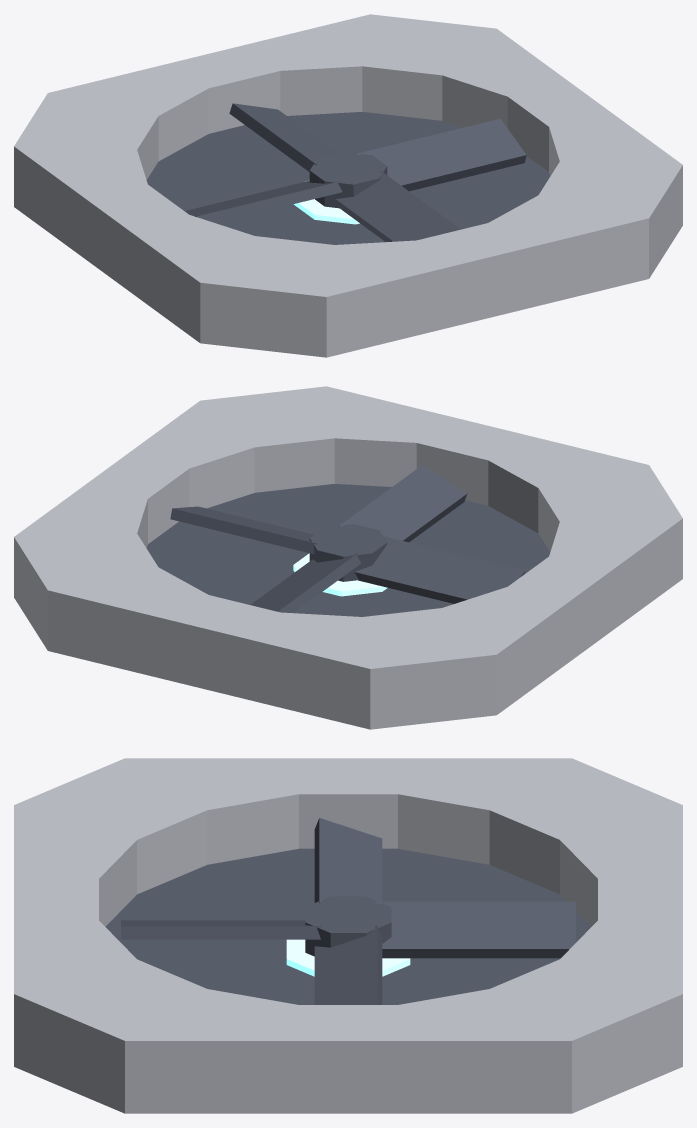
The model's file is sci-vent.glb.
3 renders of one model, top to bottom at view 1: azimuth 30°, elevation 25°; view 2: azimuth 150°, elevation 25°; view 3: azimuth 270°, elevation 25°, orthographic. The views are drawn at different scales.
Parts seen in each view (by area): view 1: Vent frame, Vent shaft, Vent fan, Vent glow; view 2: Vent frame, Vent shaft, Vent fan, Vent glow; view 3: Vent frame, Vent shaft, Vent fan, Vent glow.
Boxes of the visible parts, x1,y1,x2,y2 form: Vent frame: (14, 14, 682, 357); Vent shaft: (146, 112, 550, 244); Vent fan: (184, 103, 526, 241); Vent glow: (293, 180, 359, 224); Vent frame: (14, 386, 682, 729); Vent shaft: (146, 484, 550, 616); Vent fan: (170, 465, 525, 612); Vent glow: (293, 553, 387, 596); Vent frame: (14, 758, 682, 1113); Vent shaft: (105, 848, 591, 1004); Vent fan: (121, 818, 575, 1004); Vent glow: (286, 939, 410, 976).
Bounding box in the file's own units: 1 × 0.12 × 1.
